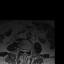CCS_normal: (24, 48, 25, 56)
LFS_stenosis: (27, 48, 29, 53)
LLS_normal: (25, 48, 27, 54)
RFS_normal: (20, 47, 22, 52)
RLS_normal: (22, 47, 23, 53)
